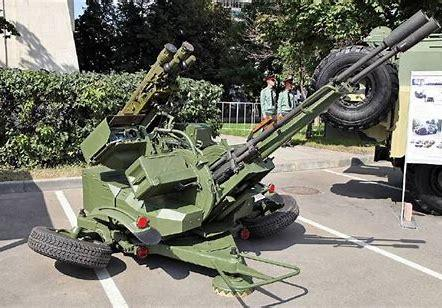MIL_SPG: (28, 12, 439, 295)
